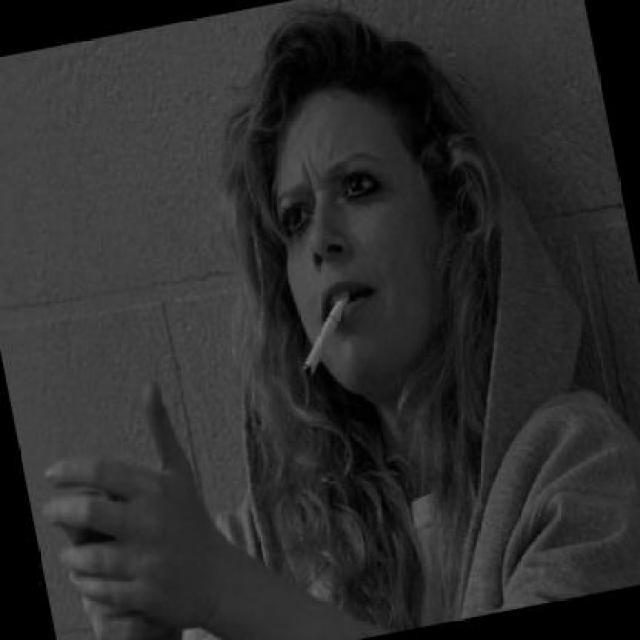cigarette: (288, 280, 377, 380)
